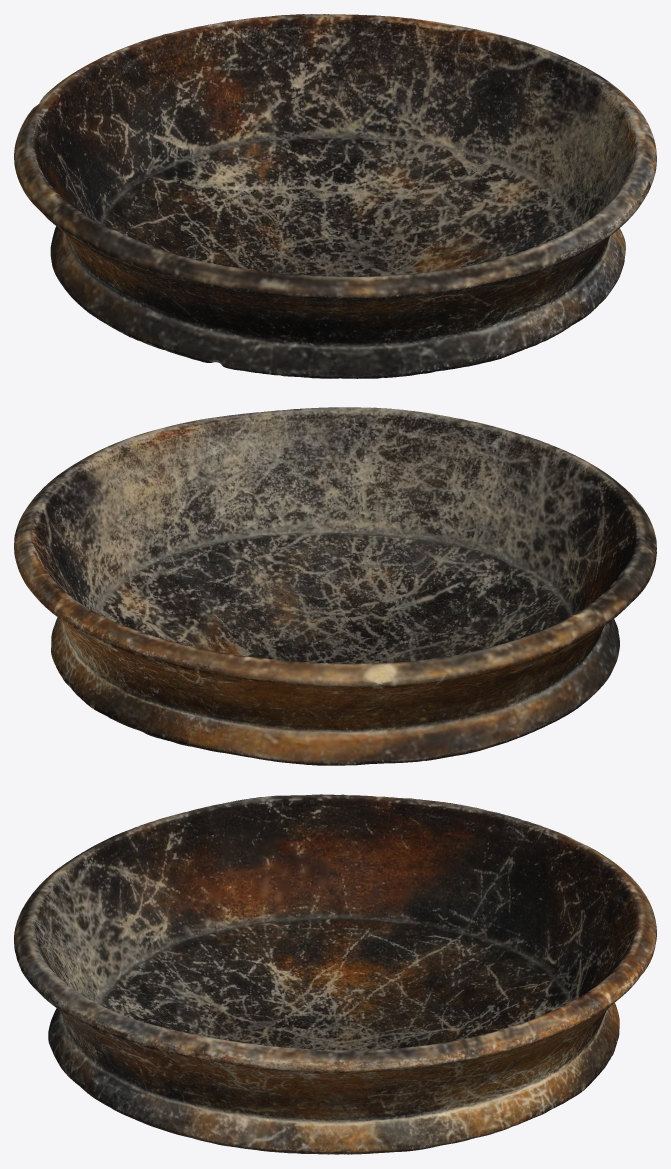
3 views of the same model, one above another, from view 1: azimuth 30°, elevation 25°; view 2: azimuth 150°, elevation 25°; view 3: azimuth 270°, elevation 25° (orthographic).
Visible parts, largest first — view 1: Mesh_0.016; view 2: Mesh_0.016; view 3: Mesh_0.016.
Part boxes in pixels (box(x1,y1,x2,y2)): Mesh_0.016: box(14, 14, 656, 378); Mesh_0.016: box(14, 407, 656, 765); Mesh_0.016: box(14, 794, 656, 1154).
Bounding box in the file's own units: 0.2582 × 0.0863 × 0.2601.
1 material, 1 textured.
